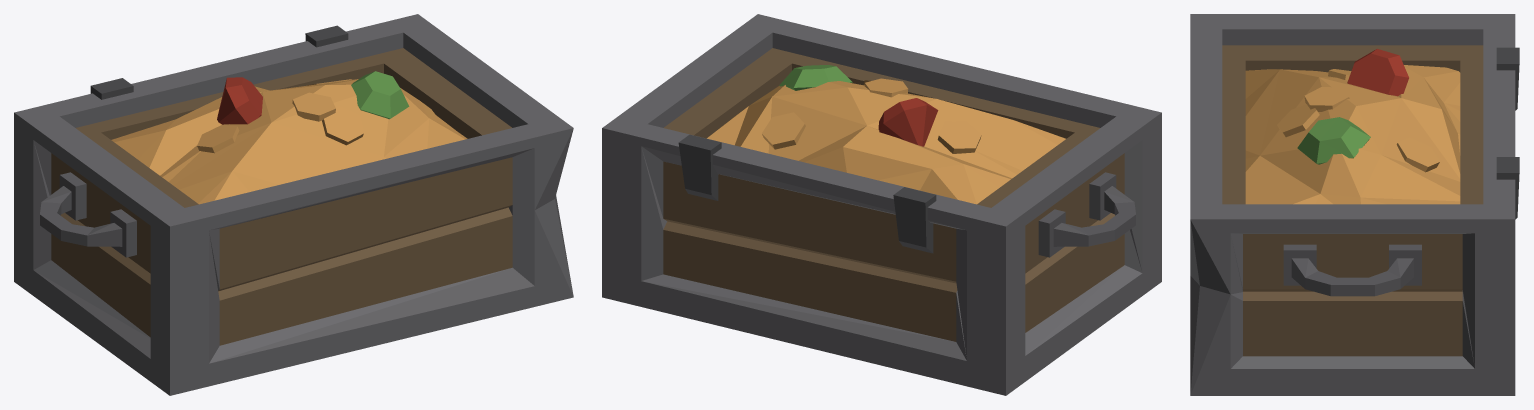
Rendered from SM_Prop_Chest_Treasure_02.glb.
3 renders of one model, left to right at view 1: azimuth 30°, elevation 25°; view 2: azimuth 150°, elevation 25°; view 3: azimuth 270°, elevation 25°, orthographic. The views are drawn at different scales.
Visible parts, largest first — view 1: SM_Prop_Chest_Treasure_02_part00, SM_Prop_Chest_Treasure_02_part01; view 2: SM_Prop_Chest_Treasure_02_part00, SM_Prop_Chest_Treasure_02_part01; view 3: SM_Prop_Chest_Treasure_02_part00, SM_Prop_Chest_Treasure_02_part01.
Boxes of the visible parts, x1=… form: SM_Prop_Chest_Treasure_02_part00: x1=14, y1=14, x2=573, y2=395; SM_Prop_Chest_Treasure_02_part01: x1=111, y1=71, x2=467, y2=204; SM_Prop_Chest_Treasure_02_part00: x1=602, y1=14, x2=1161, y2=395; SM_Prop_Chest_Treasure_02_part01: x1=707, y1=65, x2=1065, y2=204; SM_Prop_Chest_Treasure_02_part00: x1=1190, y1=14, x2=1519, y2=395; SM_Prop_Chest_Treasure_02_part01: x1=1245, y1=48, x2=1460, y2=204.
Bounding box in the file's own units: 1.06 × 0.4328 × 0.593.
Materials: 1 (1 with a texture image).
